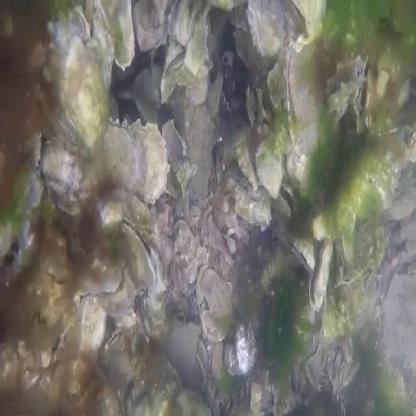3: (130, 120, 169, 205), (105, 118, 146, 193), (123, 218, 161, 289), (197, 268, 234, 340), (326, 55, 367, 117), (309, 240, 333, 313), (355, 53, 373, 132), (236, 134, 259, 192), (289, 236, 316, 277), (272, 183, 297, 224), (75, 3, 91, 41), (106, 327, 125, 351)
Oyster-Closed: (60, 37, 112, 150), (126, 352, 182, 416), (79, 296, 108, 354)
Oyster-Open: (285, 41, 328, 150), (221, 148, 272, 224), (76, 250, 125, 295), (247, 0, 285, 56), (257, 143, 284, 196)
